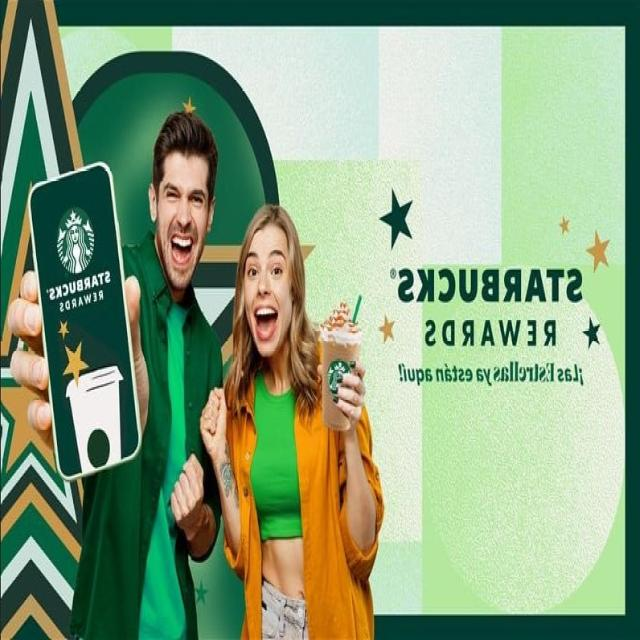starbucks: (394, 262, 586, 318), (53, 199, 99, 281)
